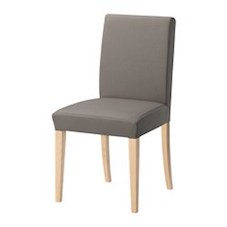chair: (31, 11, 209, 226)
